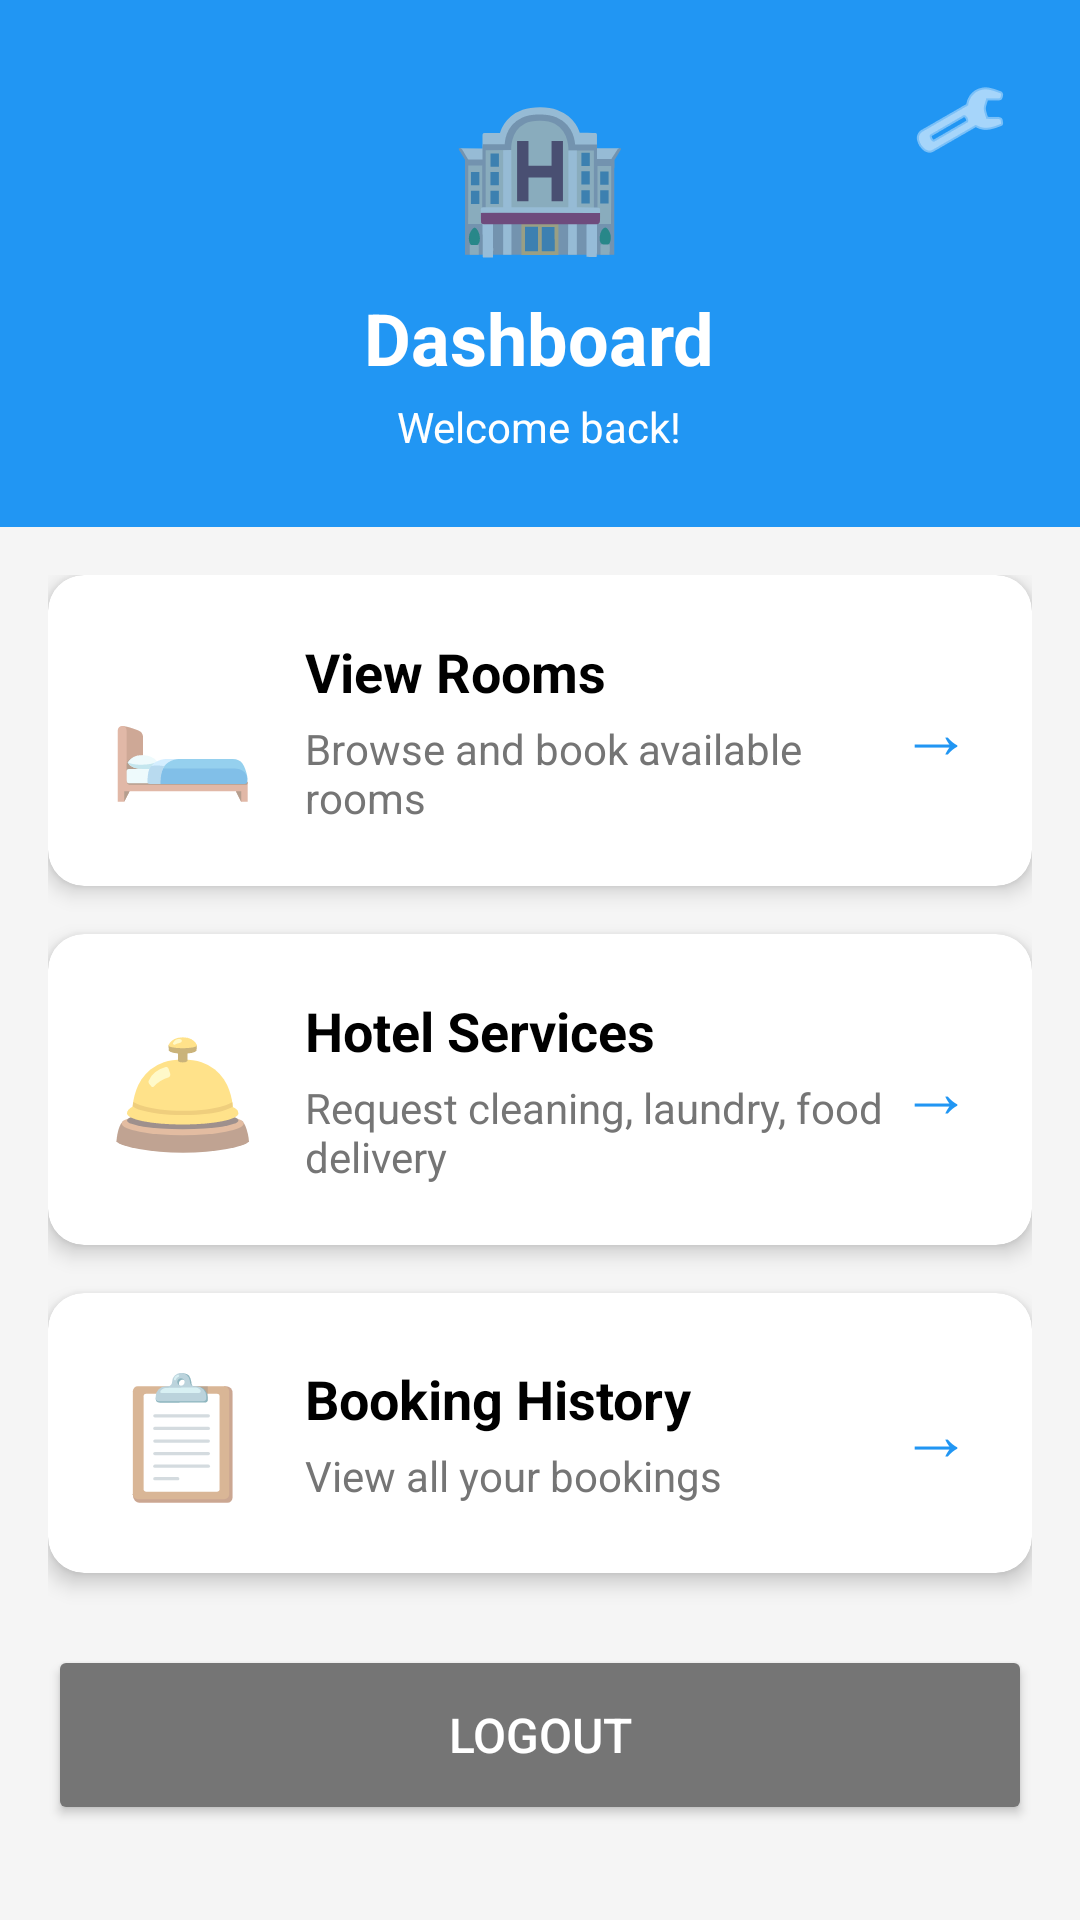

Where icons sit on this 1080w x 1920h app screen, as (x1, y1, x2, y2):
Settings: (917, 87, 1003, 153)
